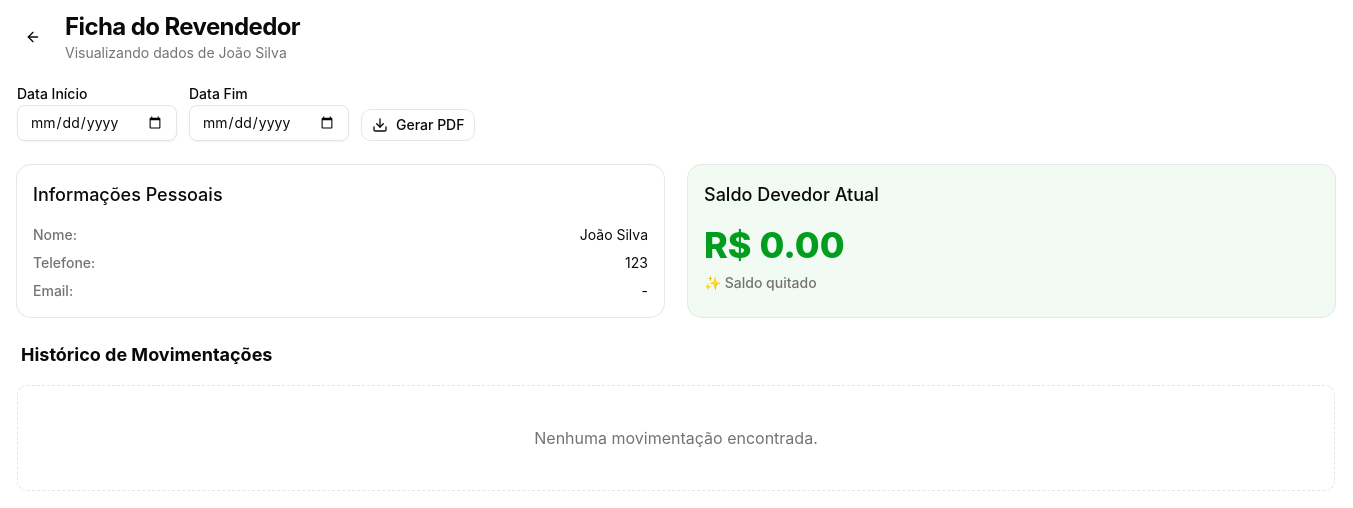
ResellerDetailPage Calculation and Unit rendering › desabilita o botão quando apenas endDate é preenchida
The width and height of the screenshot is (1353, 508).
Type "2025-03-31" into the date field labelled "Data Fim" at (269, 123), box [189,105,349,141]
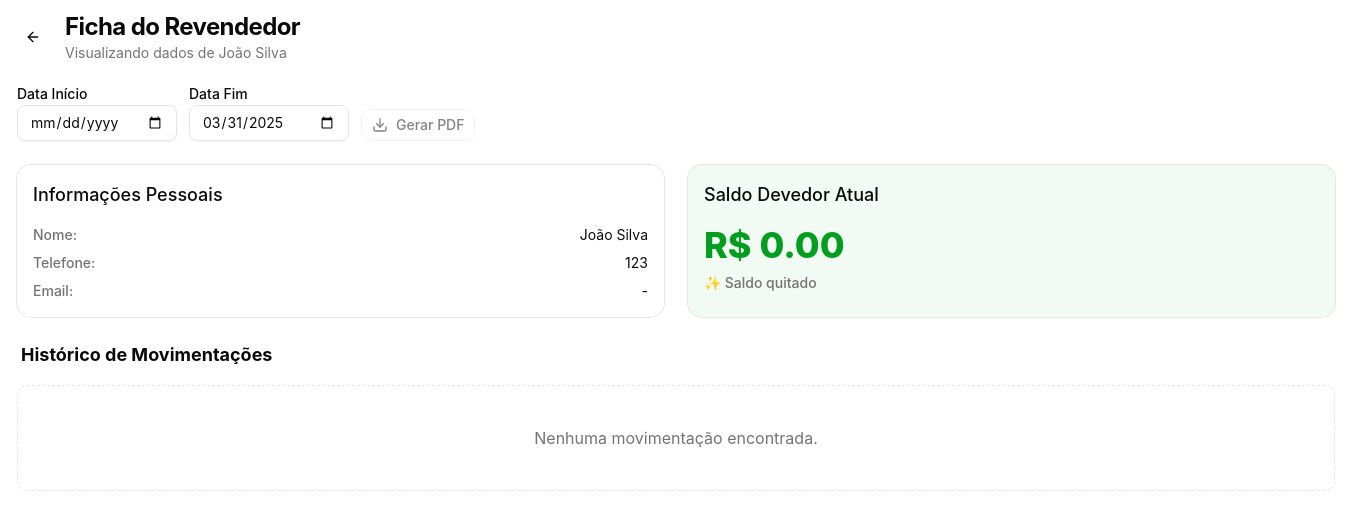
Check: the button "Gerar PDF" is disabled, box [361,109,476,141]
